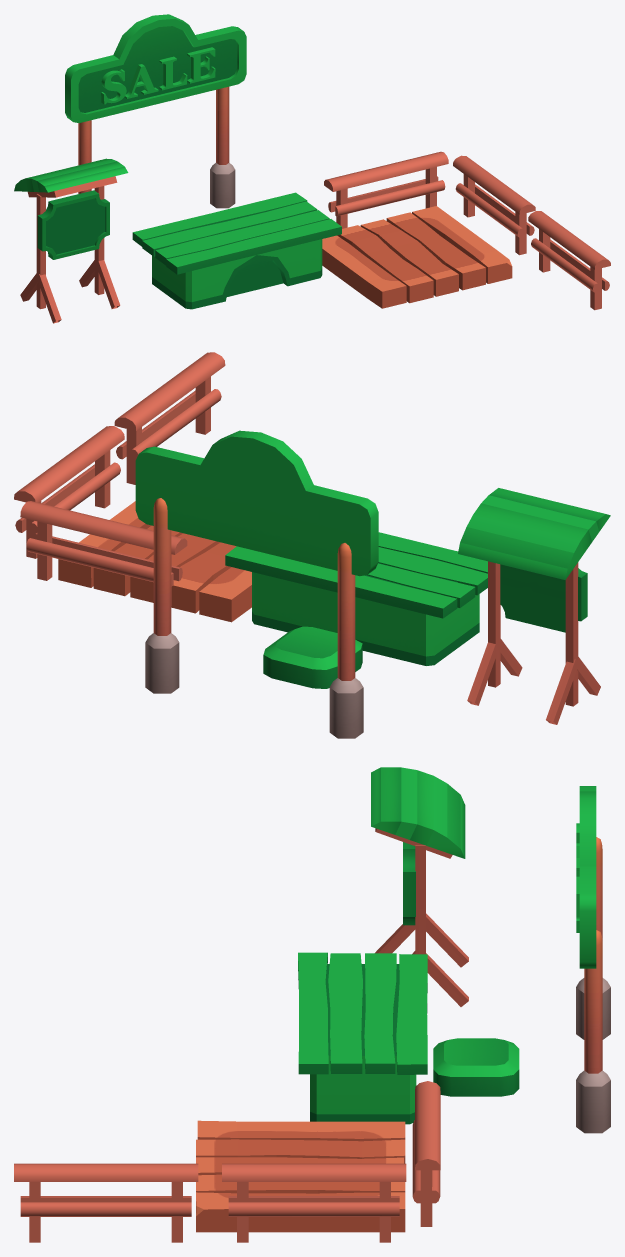
Rendered from TradeStation.fbx.
3 renders of one model, top to bottom at view 1: azimuth 30°, elevation 25°; view 2: azimuth 150°, elevation 25°; view 3: azimuth 270°, elevation 25°, orthographic. The views are drawn at different scales.
Visible parts, largest first — view 1: Cube.030, Cube.027, Cube.029, Cube.028, Hayat.005, Hayat.004, Hayat.001; view 2: Cube.030, Cube.027, Cube.028, Cube.029, Hayat.005, Hayat.001, Hayat.004, Cube.032; view 3: Cube.027, Cube.029, Cube.028, Cube.030, Hayat.004, Hayat.001, Cube.032, Hayat.005.
Boxes of the visible parts, <box> form: Cube.030: <box>65,14,246,208</box>; Cube.027: <box>132,192,341,309</box>; Cube.029: <box>322,206,512,308</box>; Cube.028: <box>14,158,128,323</box>; Hayat.005: <box>324,151,448,228</box>; Hayat.004: <box>453,155,535,255</box>; Hayat.001: <box>528,211,610,310</box>; Cube.030: <box>135,430,378,738</box>; Cube.027: <box>225,532,487,665</box>; Cube.028: <box>458,488,610,724</box>; Cube.029: <box>58,501,251,622</box>; Hayat.005: <box>20,501,187,605</box>; Hayat.001: <box>114,352,225,484</box>; Hayat.004: <box>14,426,124,558</box>; Cube.032: <box>263,626,362,688</box>; Cube.027: <box>298,952,427,1124</box>; Cube.029: <box>196,1120,405,1232</box>; Cube.028: <box>371,767,468,1006</box>; Cube.030: <box>576,786,610,1133</box>; Hayat.004: <box>222,1163,406,1242</box>; Hayat.001: <box>14,1163,198,1242</box>; Cube.032: <box>433,1038,519,1096</box>; Hayat.005: <box>412,1081,440,1226</box>.
Size of the model in its own units: 2.31 by 1.06 by 1.99.
